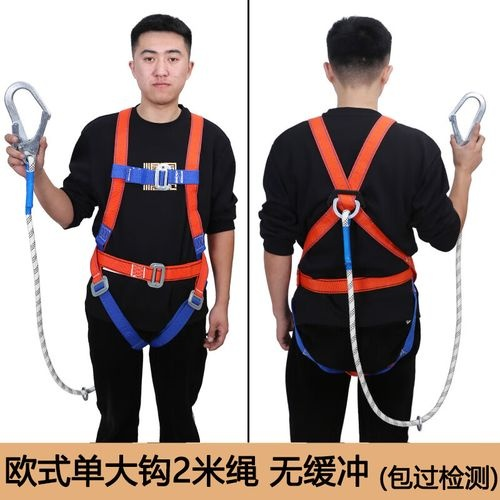safety belt: (294, 113, 425, 386), (95, 102, 221, 355)
